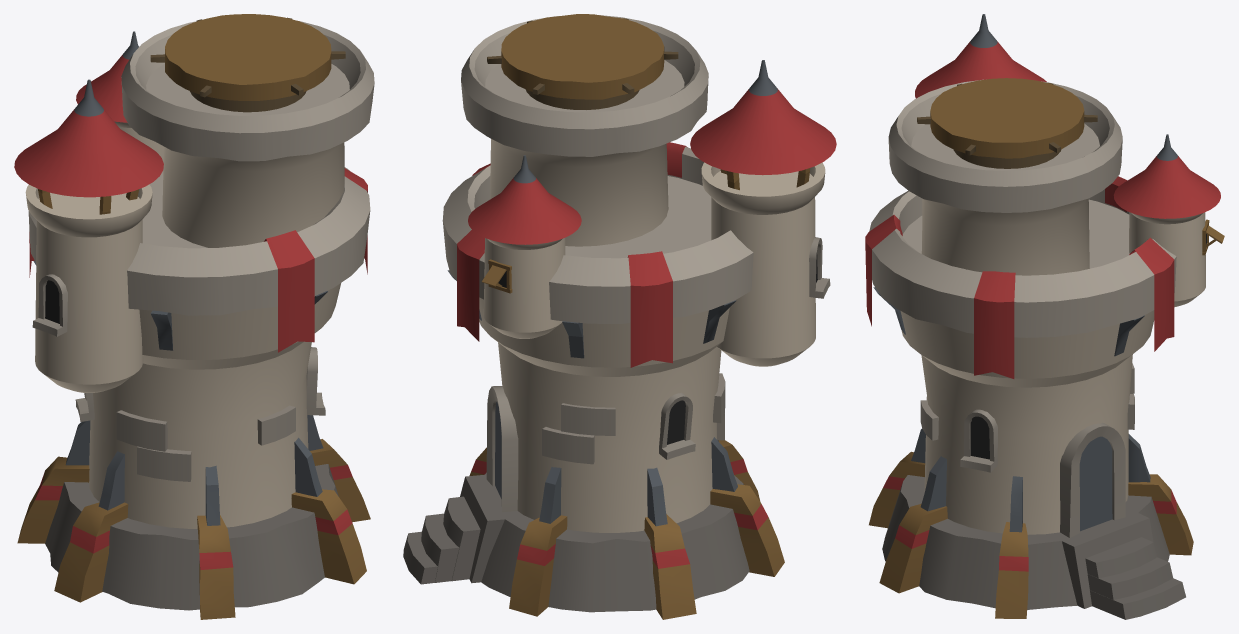
File: Tower_lvl3.fbx
3 renders of one model, left to right at view 1: azimuth 30°, elevation 25°; view 2: azimuth 150°, elevation 25°; view 3: azimuth 270°, elevation 25°, orthographic. The views are drawn at different scales.
Parts seen in each view (by area): view 1: Cylinder.055, Cylinder.050, Cylinder.056, Cylinder.059, Cylinder.057, Cube.099, Cylinder.052, Cube.114, Cone, Cube.113, Cone.001, Cylinder.062 (+9 smaller); view 2: Cylinder.055, Cylinder.057, Cylinder.059, Cylinder.050, Cylinder.056, Cube.114, Cube.099, Cylinder.052, Cone, Cube.113, Cylinder.071, Cone.001 (+12 smaller); view 3: Cylinder.055, Cylinder.057, Cylinder.059, Cube.114, Cylinder.056, Cylinder.052, Cube.099, Cube.113, Cylinder.060, Cone.001, Cylinder.071, Cylinder.061 (+9 smaller).
Part boxes in pixels (x1,y1,x2,y2): Cylinder.055: (89, 283, 340, 528); Cylinder.050: (25, 184, 152, 392); Cylinder.056: (45, 464, 338, 610); Cylinder.059: (121, 21, 374, 161); Cylinder.057: (28, 167, 370, 315); Cube.099: (17, 439, 370, 619); Cylinder.052: (162, 142, 344, 247); Cube.114: (150, 14, 345, 112); Cone: (14, 79, 163, 197); Cube.113: (29, 168, 367, 352); Cone.001: (76, 31, 138, 122); Cylinder.062: (32, 274, 67, 336); Cylinder.055: (479, 297, 729, 532); Cylinder.057: (442, 146, 753, 323); Cylinder.059: (461, 15, 708, 156); Cylinder.050: (701, 162, 825, 366); Cylinder.056: (477, 472, 749, 612); Cube.114: (487, 14, 678, 109); Cube.099: (469, 440, 784, 619); Cylinder.052: (490, 139, 668, 246); Cone: (690, 60, 836, 175); Cube.113: (457, 142, 687, 367); Cylinder.071: (483, 238, 565, 338); Cone.001: (468, 155, 581, 244); Cylinder.055: (900, 310, 1154, 534); Cylinder.057: (869, 189, 1176, 337); Cylinder.059: (888, 79, 1122, 212); Cube.114: (917, 78, 1097, 168); Cylinder.056: (882, 475, 1169, 609); Cylinder.052: (921, 198, 1089, 275); Cube.099: (869, 451, 1193, 618); Cube.113: (865, 176, 1174, 378); Cylinder.060: (1085, 537, 1185, 619); Cone.001: (1113, 134, 1220, 218); Cylinder.071: (1129, 212, 1205, 307); Cylinder.061: (1060, 422, 1125, 537).
Size of the model in its own units: 368 by 509 by 350.
